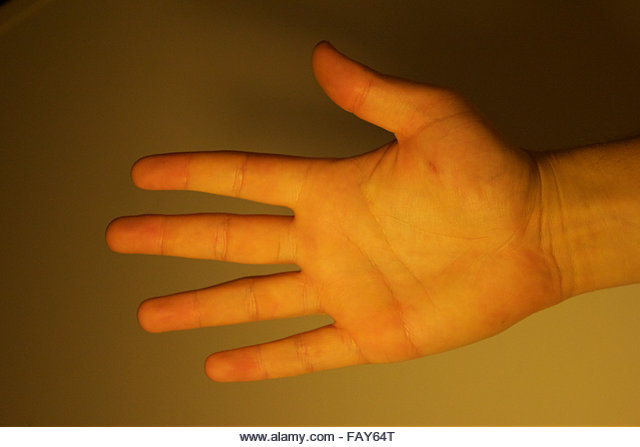hand: (88, 22, 603, 395)
